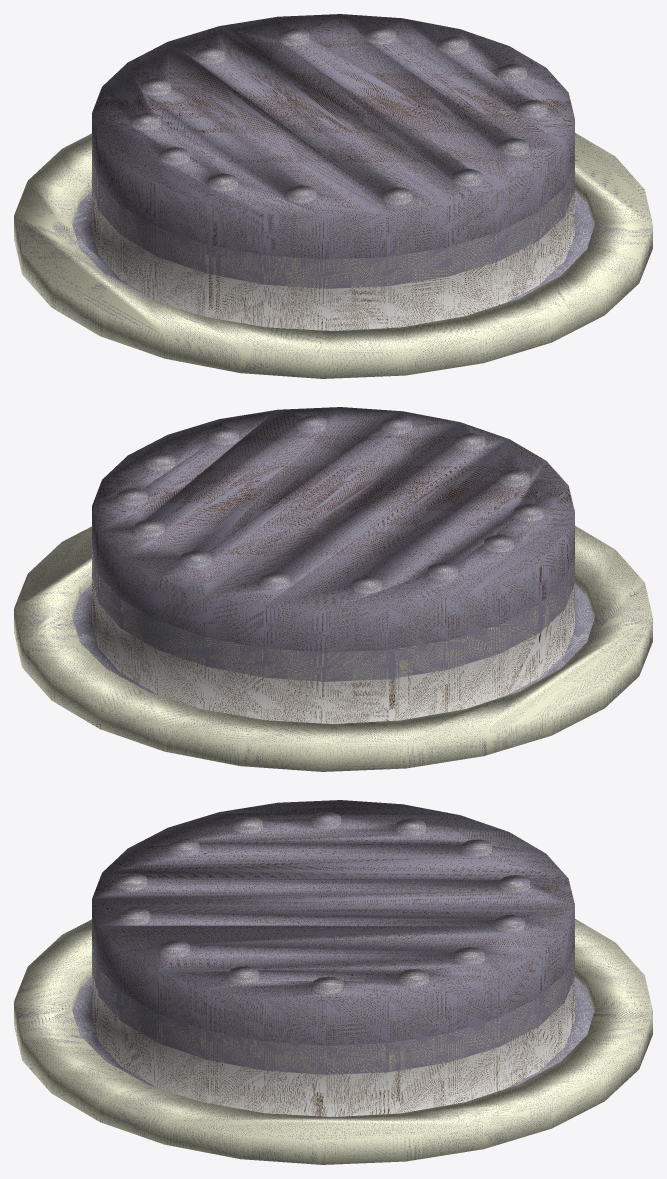
File: cake.fbx
The picture shows the model from 3 angles, top to bottom: view 1: azimuth 30°, elevation 25°; view 2: azimuth 150°, elevation 25°; view 3: azimuth 270°, elevation 25°; orthographic projection.
Visible parts, largest first — view 1: Model; view 2: Model; view 3: Model.
Part boxes in pixels (bbox=[...]): Model: bbox=[14, 14, 652, 378]; Model: bbox=[14, 407, 652, 771]; Model: bbox=[14, 800, 652, 1164].
Bounding box in the file's own units: 8.52 × 1.95 × 8.52.
